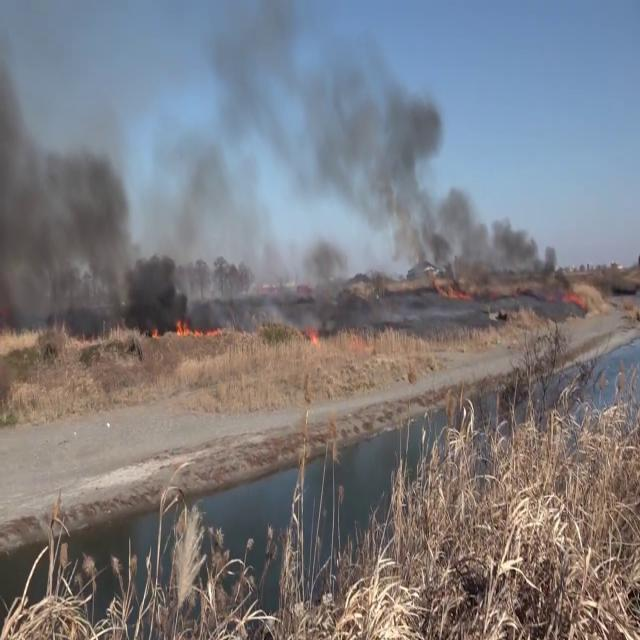Smoke: (170, 0, 552, 331), (0, 4, 134, 346)
